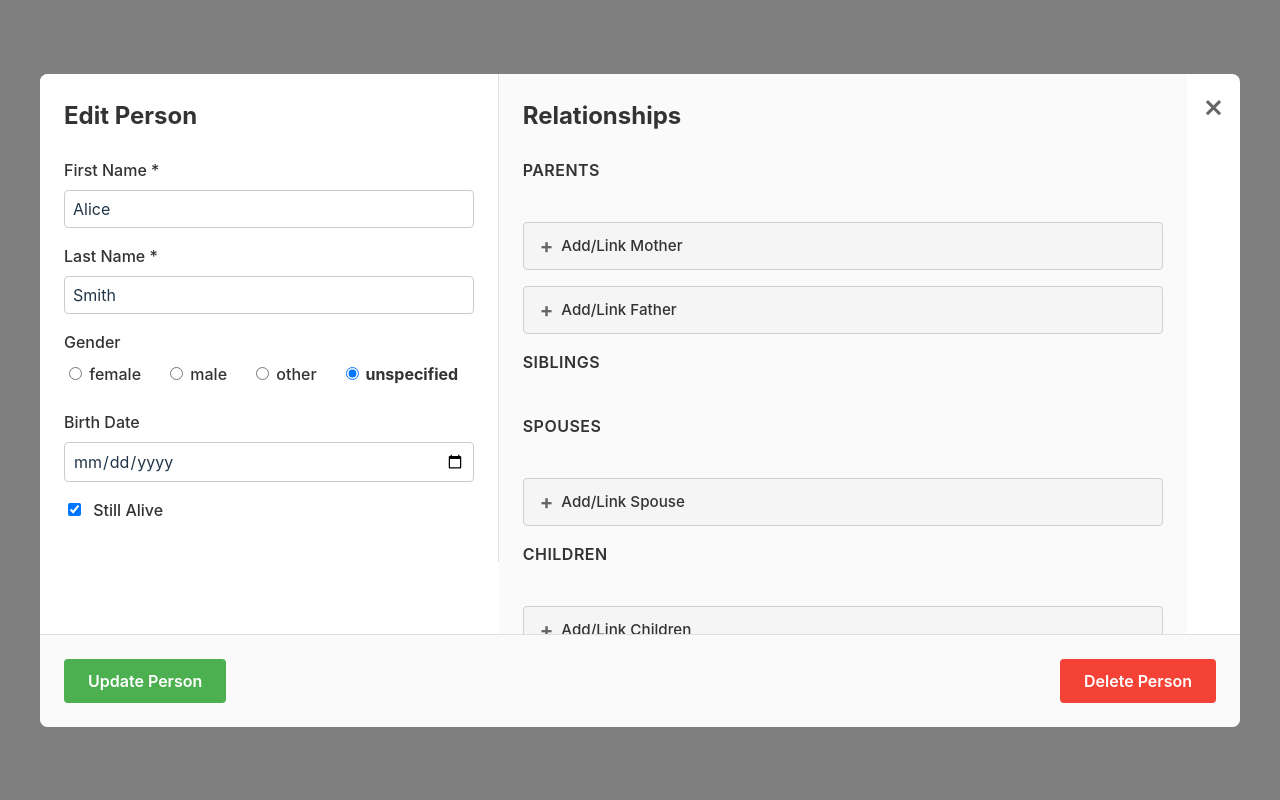
it: PersonModal - Parents Section with CollapsibleActionPanel (Issue #53) › AC5: Link Existing shows LinkExistingParent autocomplete › should show LinkExistingParent when Link Existing Person is clicked
Click the button with class "trigger-button" showing "+ Add/Link Mother" at (622, 246), box [523,222,1163,270]
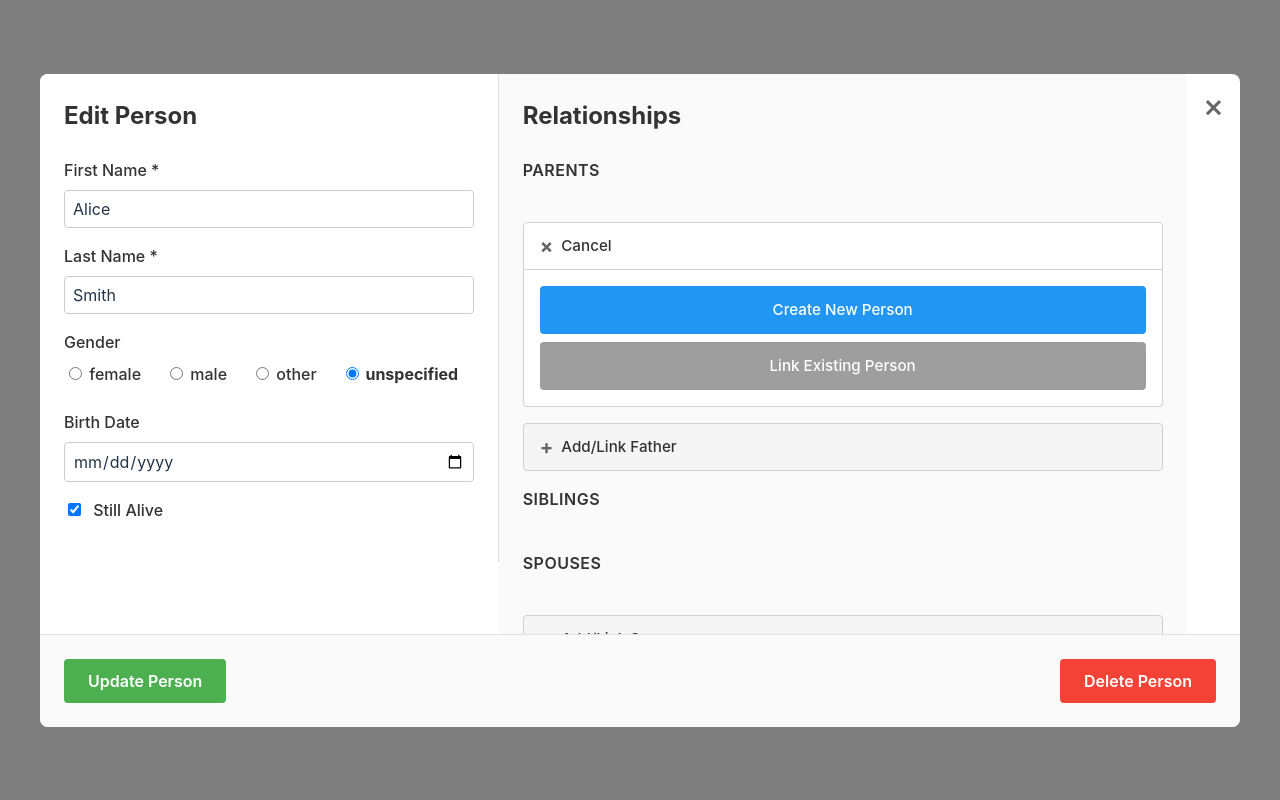
Note: WHEN user clicks Link Existing Person
Click the button "Link Existing Person" at (843, 366), box [540,342,1146,390]
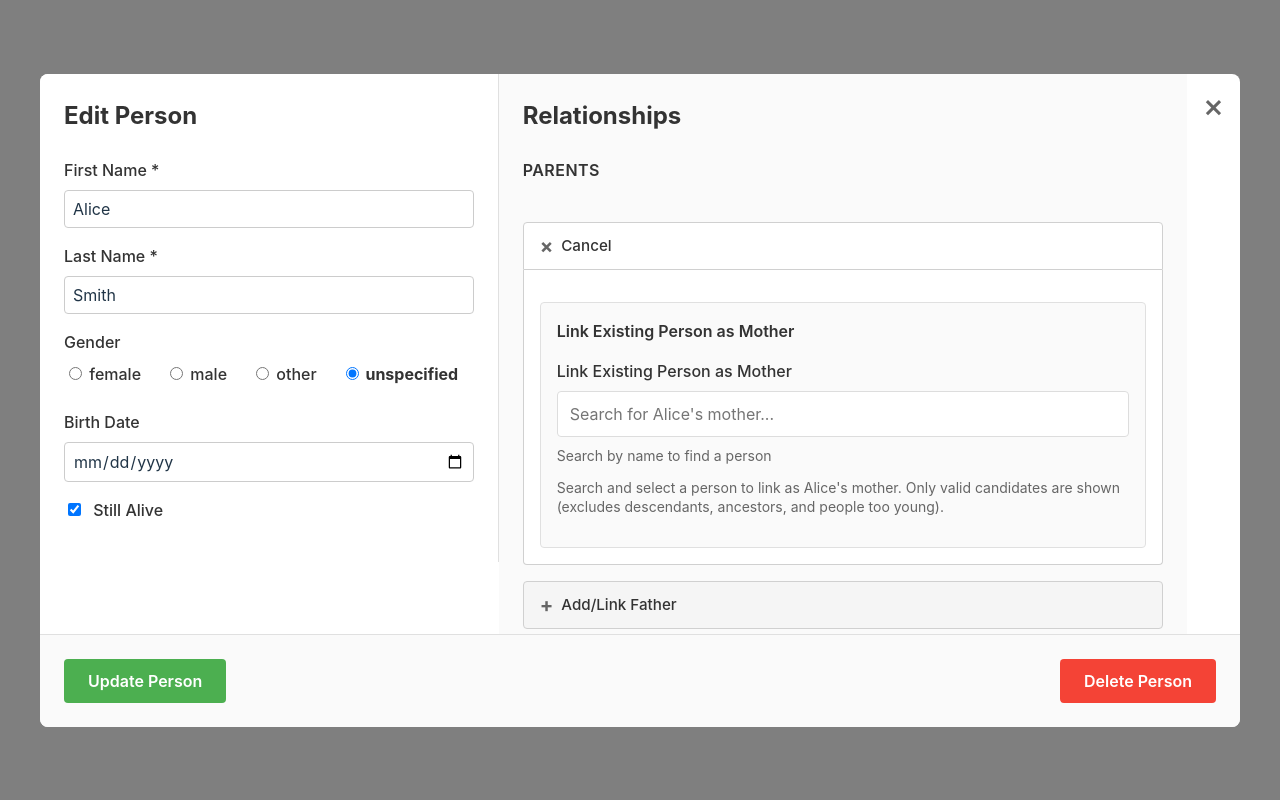
Result: the element with class "link-existing-parent" is shown at [540,302,1146,548]
Result: the element with class "link-existing-parent" shows "Link Existing Person as Mother" at [557,320,794,340]
